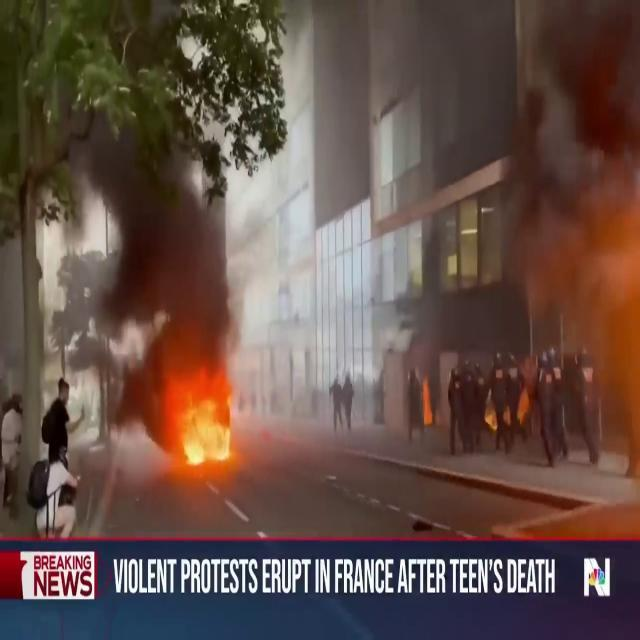Fire: (158, 369, 242, 472), (420, 370, 434, 432)
Smoke: (482, 1, 640, 452), (52, 110, 276, 372)
